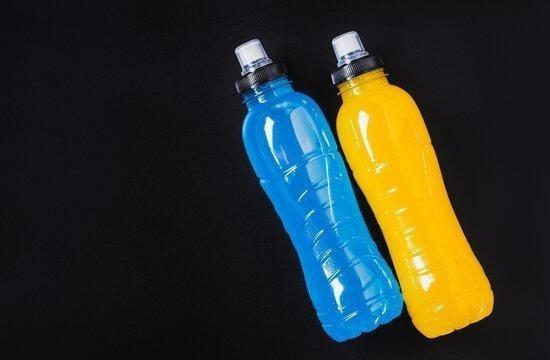gym bottle: (233, 38, 403, 342), (328, 31, 495, 338)
